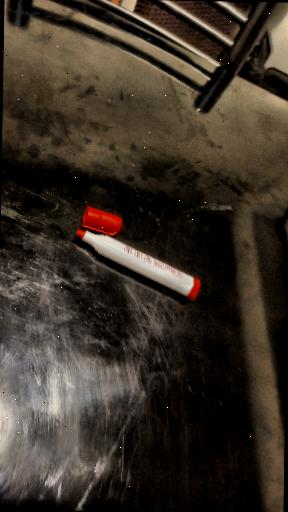marcador rojo: (78, 230, 200, 298)
